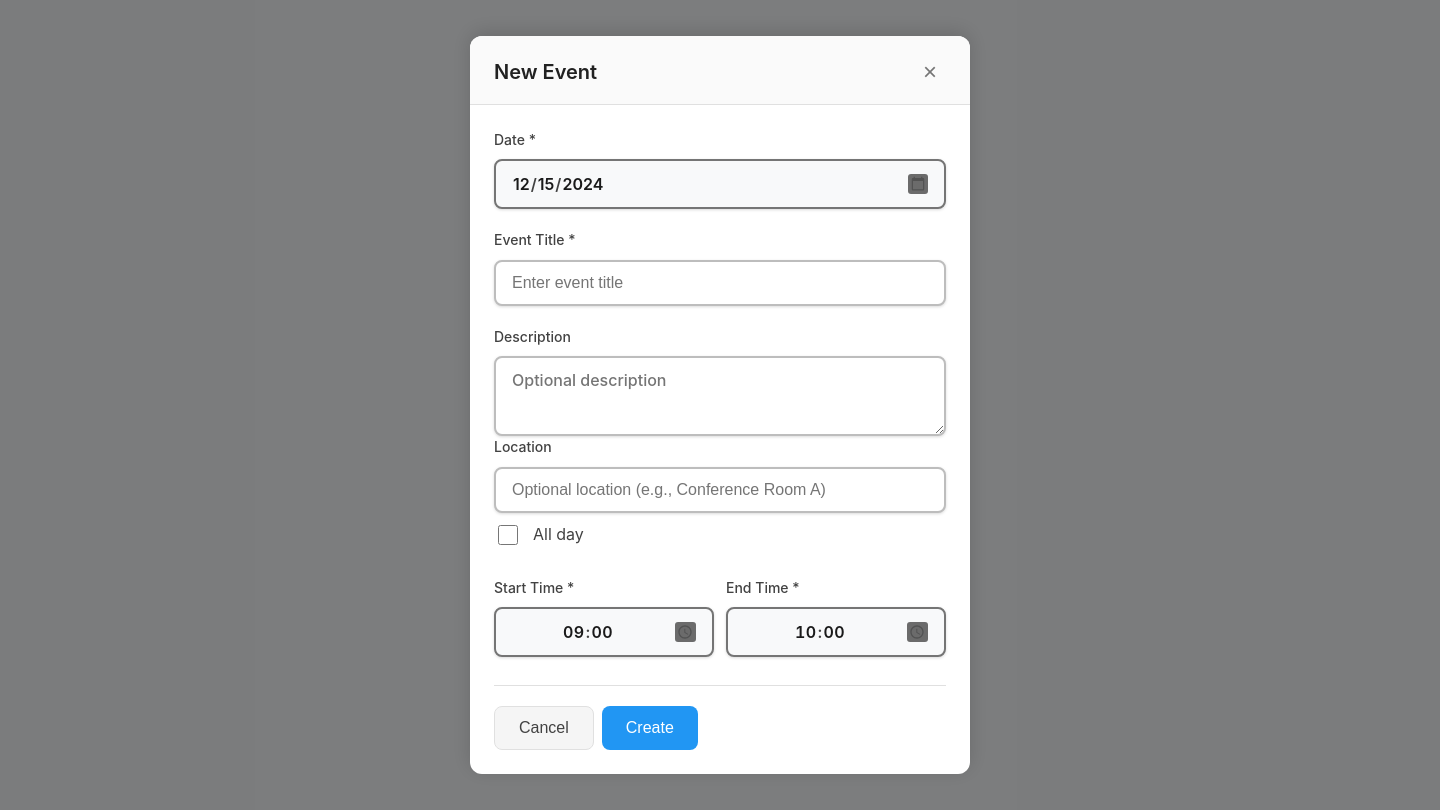
Test: EventModal › Form Validation › shows error when end time is before start time
In the field labelled "Event Title *": x=720, y=283 x1=494 y1=260 x2=946 y2=306, type "Test Event"
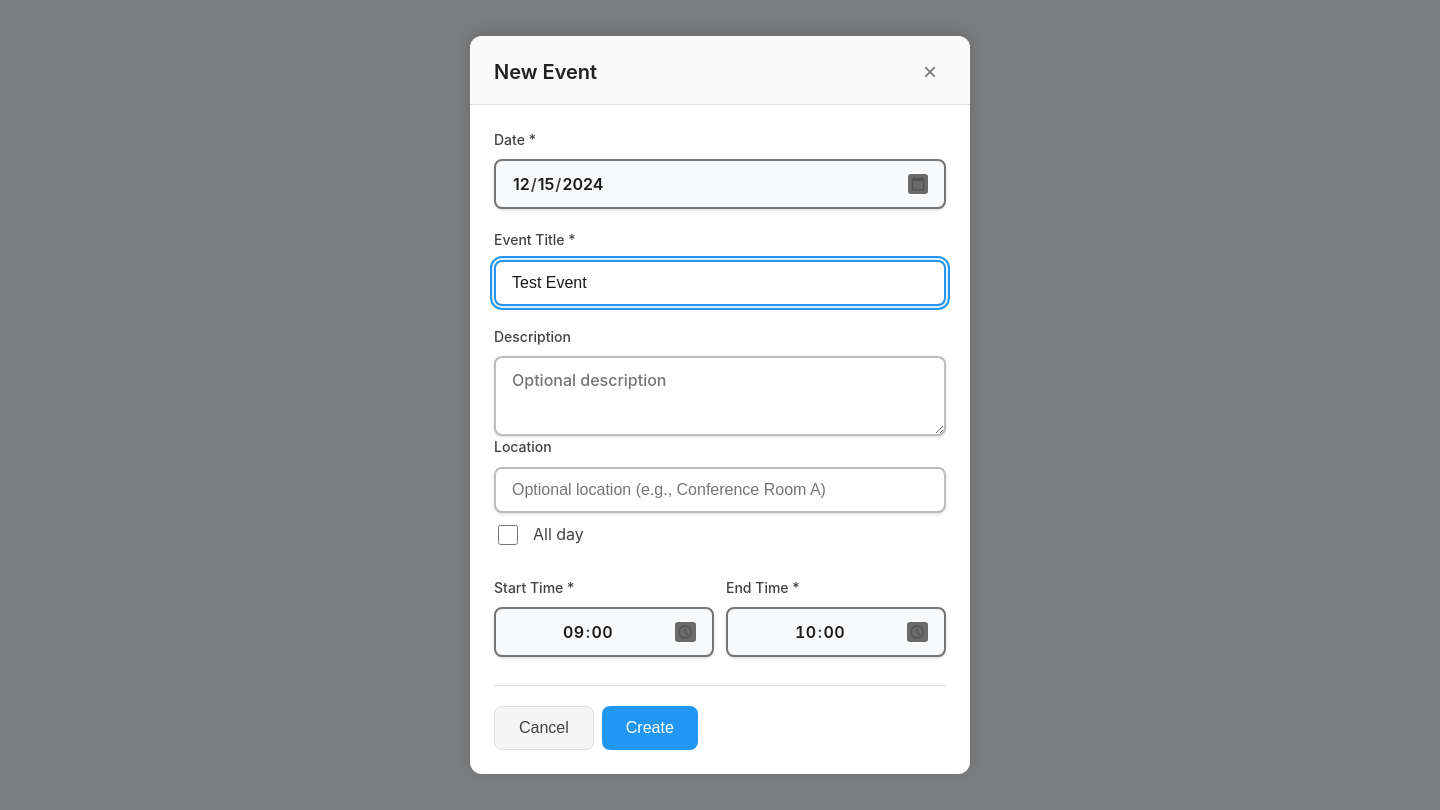
Replace the text in the time field labelled "Start Time *" with "15:00": x=604, y=632 x1=494 y1=607 x2=714 y2=657
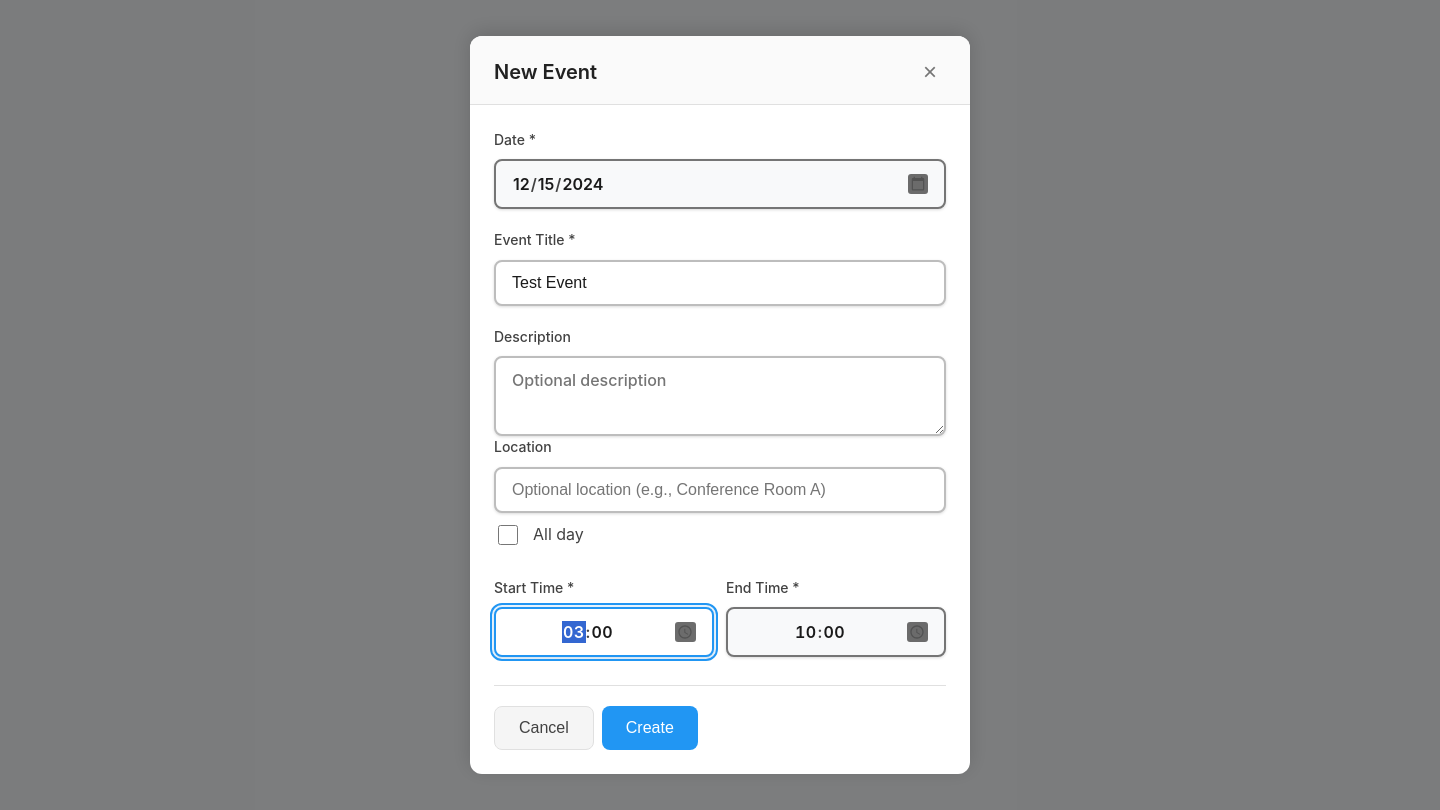
Replace the text in the time field labelled "End Time *" with "14:00": x=836, y=632 x1=726 y1=607 x2=946 y2=657
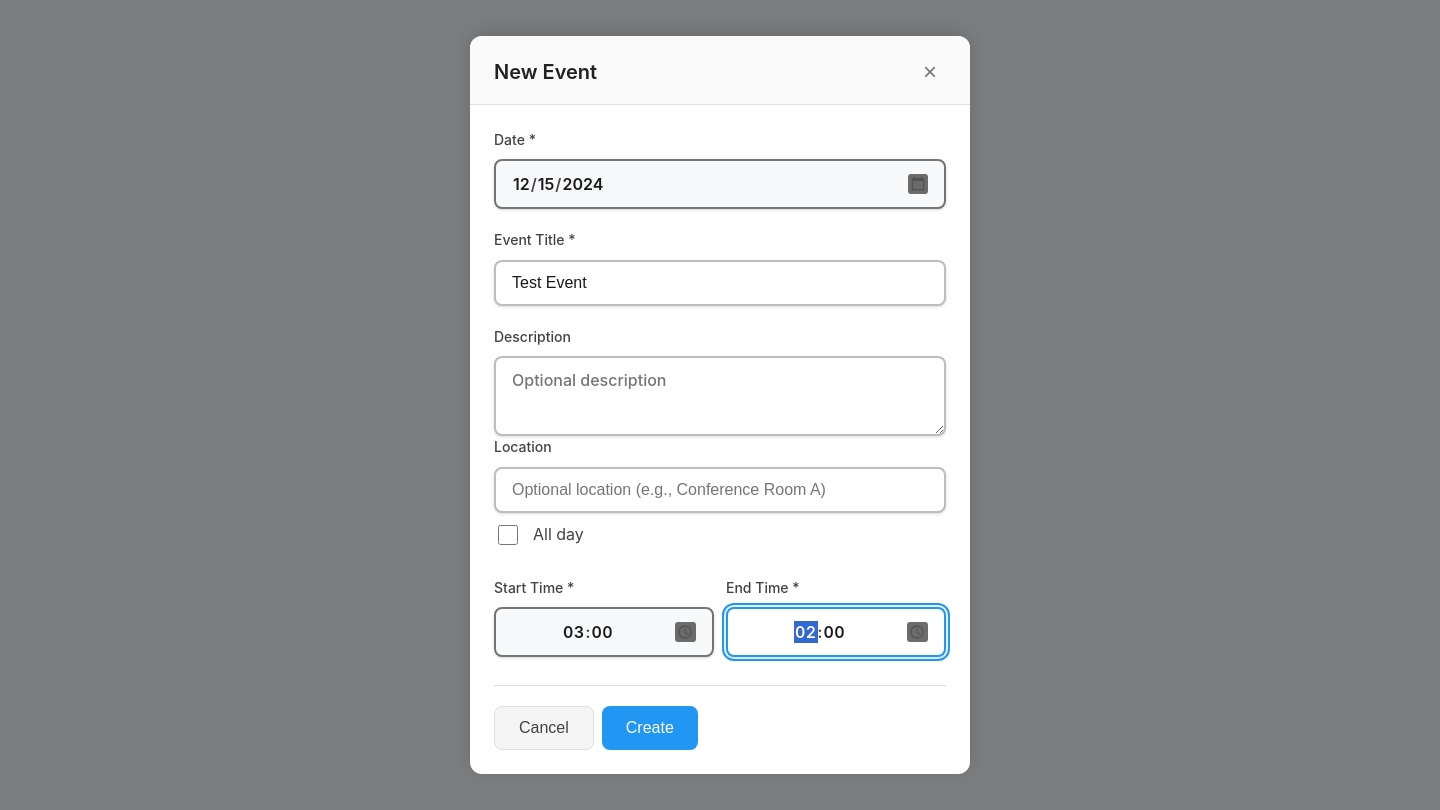
Click the button "Create": x=650, y=728 x1=602 y1=706 x2=698 y2=750
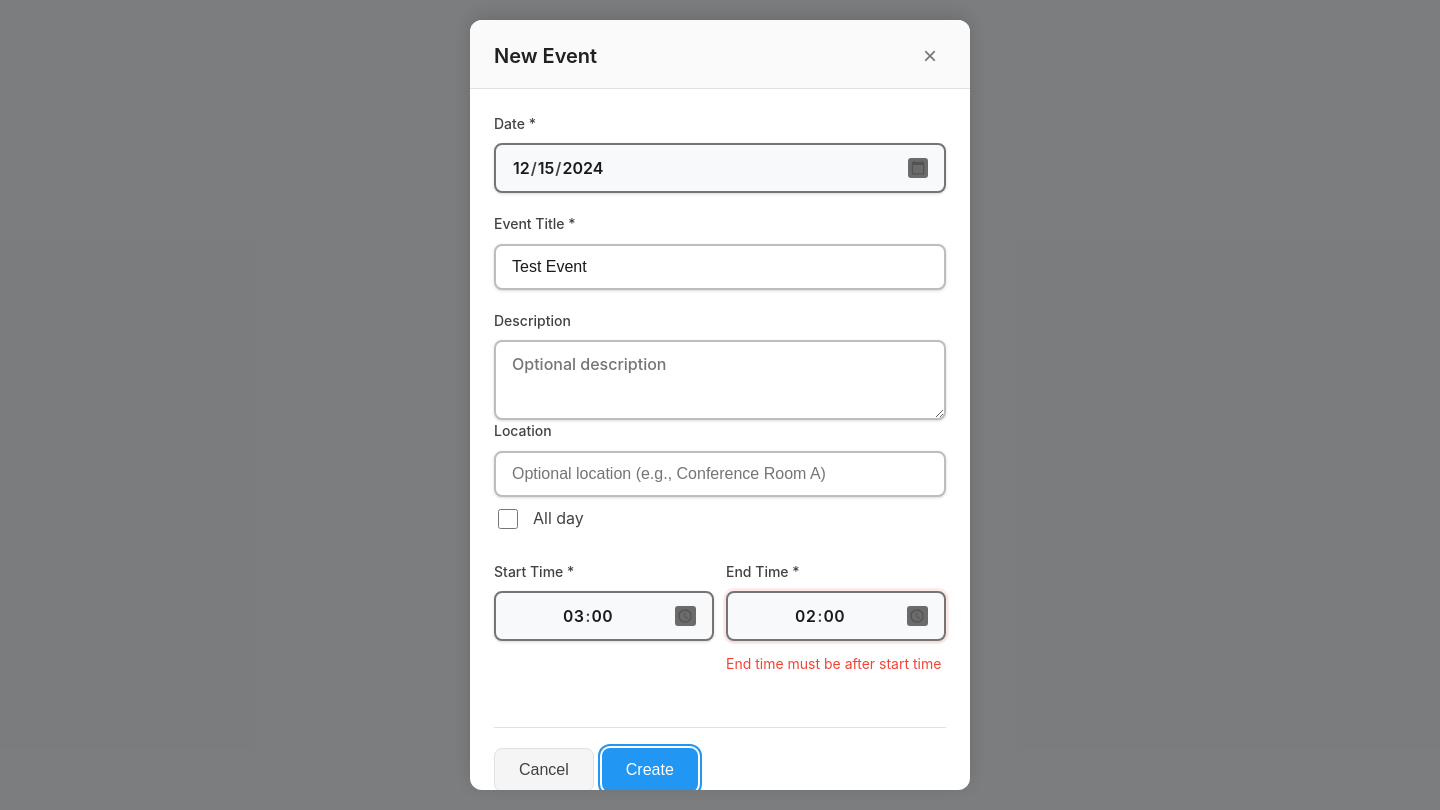
Now the text "End time must be after start time" is shown, box x1=726 y1=653 x2=946 y2=675
